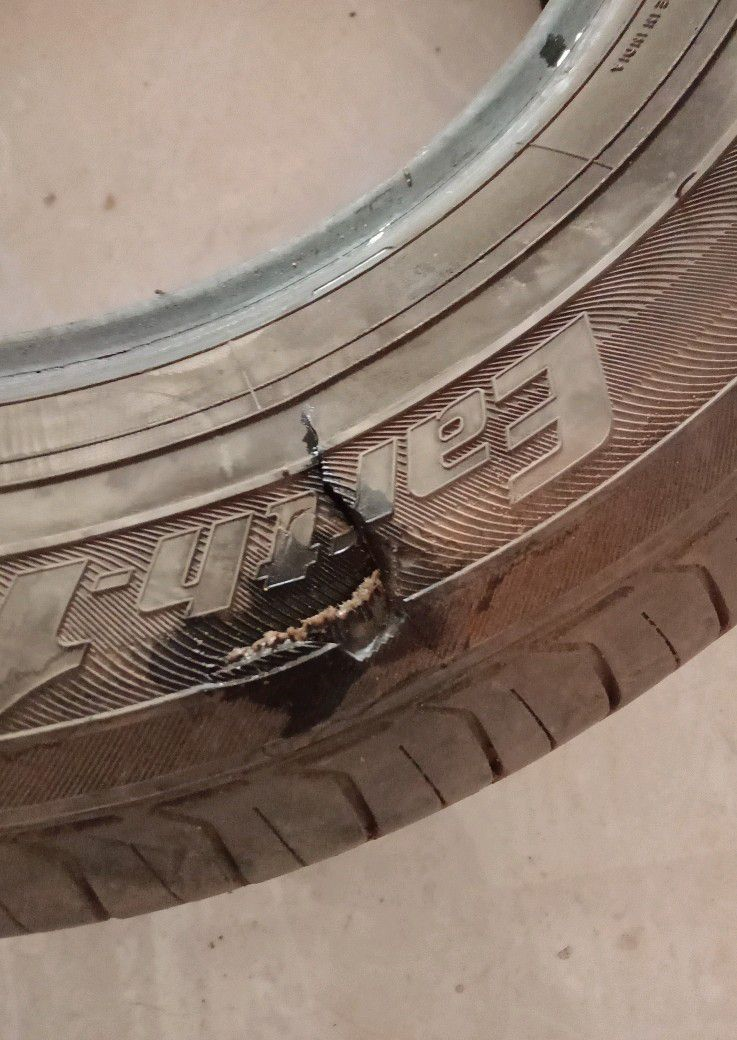cut: (181, 389, 413, 690)
